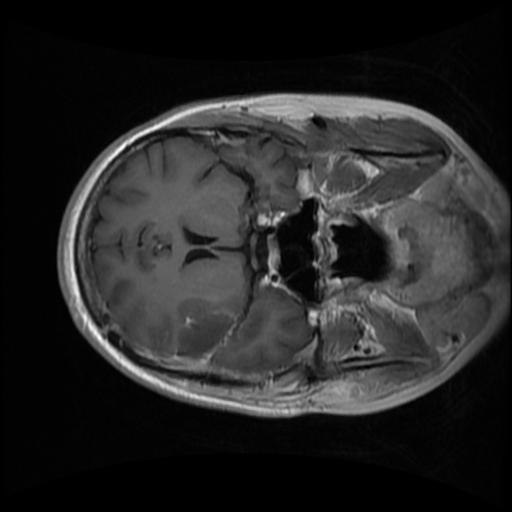glioma: (175, 295, 235, 355)
